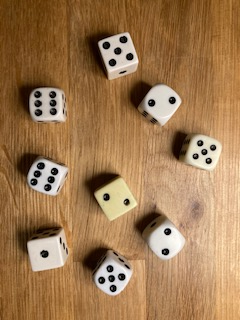five: (96, 31, 141, 80), (91, 249, 134, 297), (179, 131, 223, 173)
one: (26, 226, 70, 274)
six: (25, 156, 70, 196), (29, 87, 67, 125)
two: (93, 176, 139, 222), (142, 216, 187, 262), (137, 82, 183, 127)
